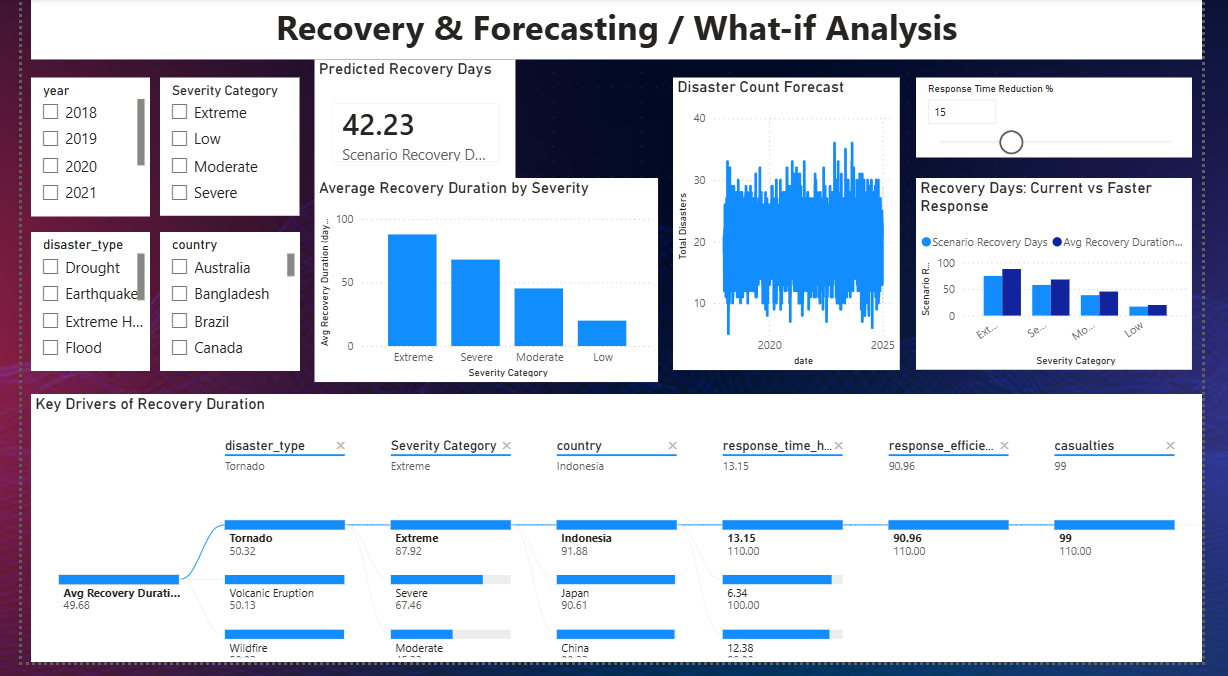

Layout of this report page (visuals, bound fields, positions):
{"tool":"powerbi","page":{"name":"Page 5","canvas":[1280,720],"ordinal":4},"visuals":[{"type":"textbox","box":[9.8,0,1270.8,66.7],"z":0},{"type":"slicer","fields":{"Values":["global_disaster_clean.year"]},"box":[9.8,86.2,128.5,149.7],"z":1},{"type":"slicer","fields":{"Values":["global_disaster_clean.country"]},"box":[149.7,253.8,151.3,149.7],"z":2},{"type":"slicer","fields":{"Values":["global_disaster_clean.disaster_type"]},"box":[9.8,253.8,128.5,149.7],"z":3},{"type":"slicer","fields":{"Values":["global_disaster_clean.Severity Category"]},"box":[149.7,86.2,151.3,149.7],"z":4},{"type":"clusteredColumnChart","title":"Average Recovery Duration by Severity","fields":{"Category":["global_disaster_clean.Severity Category"],"Y":["global_disaster_clean.Avg Recovery Duration (days)"]},"box":[317.3,195.3,372.6,221.3],"z":5},{"type":"decompositionTreeVisual","title":"Key Drivers of Recovery Duration","fields":{"Analyze":["global_disaster_clean.Avg Recovery Duration (days)"],"ExplainBy":["global_disaster_clean.disaster_type","global_disaster_clean.Severity Category","global_disaster_clean.country","global_disaster_clean.response_time_hours","global_disaster_clean.response_efficiency_score","global_disaster_clean.casualties","global_disaster_clean.economic_loss_usd"]},"box":[9.8,429.6,1270.8,291.3],"z":6},{"type":"lineChart","title":"Disaster Count Forecast","fields":{"Category":["global_disaster_clean.date"],"Y":["global_disaster_clean.Total Disasters"]},"box":[706.2,86.2,245.7,317.3],"z":7},{"type":"slicer","fields":{"Values":["Response Time Reduction %.Response Time Reduction %"]},"box":[969.8,86.2,299.4,86.2],"z":8},{"type":"cardVisual","title":"Predicted Recovery Days","fields":{"Data":["global_disaster_clean.Scenario Recovery Days"]},"box":[317.3,66.7,218,105.8],"z":9},{"type":"clusteredColumnChart","title":"Recovery Days: Current vs Faster Response","fields":{"Category":["global_disaster_clean.Severity Category"],"Y":["global_disaster_clean.Scenario Recovery Days","global_disaster_clean.Avg Recovery Duration (days)"]},"box":[969.8,195.3,299.4,208.3],"z":10}]}

Visuals, with their boxes in screenshot pixels (x1, y1, x2, y2), scaled from the page's 1280x720 canvas onto the 1228x676 screenshot:
textbox: 9/0/1227/63
slicer - global_disaster_clean.year: 9/81/133/221
slicer - global_disaster_clean.country: 144/238/289/379
slicer - global_disaster_clean.disaster_type: 9/238/133/379
slicer - global_disaster_clean.Severity Category: 144/81/289/221
"Average Recovery Duration by Severity" clusteredColumnChart: 304/183/662/391
"Key Drivers of Recovery Duration" decompositionTreeVisual: 9/403/1227/675
"Disaster Count Forecast" lineChart: 678/81/913/379
slicer - Response Time Reduction %.Response Time Reduction %: 930/81/1218/162
"Predicted Recovery Days" cardVisual: 304/63/514/162
"Recovery Days: Current vs Faster Response" clusteredColumnChart: 930/183/1218/379
